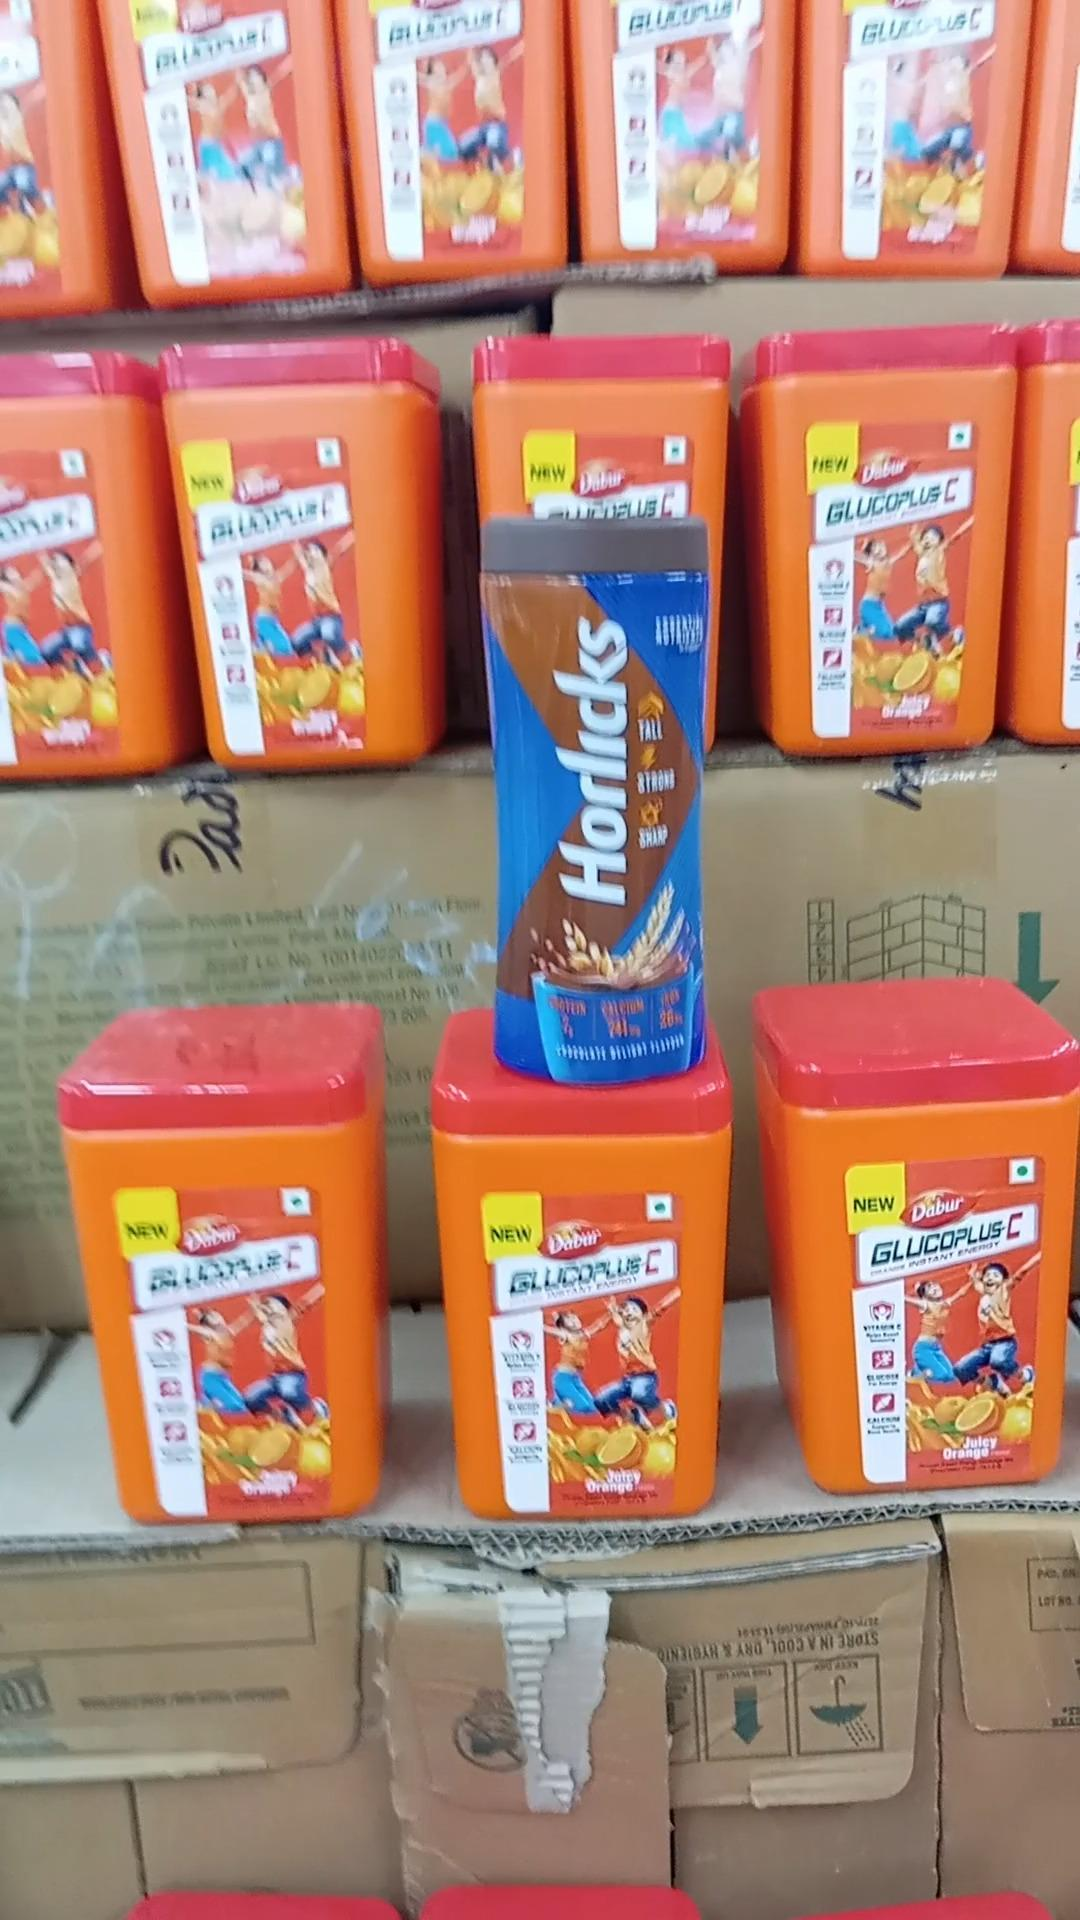HORLICK_CHOCOLATE_500_G_JAR: (481, 512, 708, 1087)
